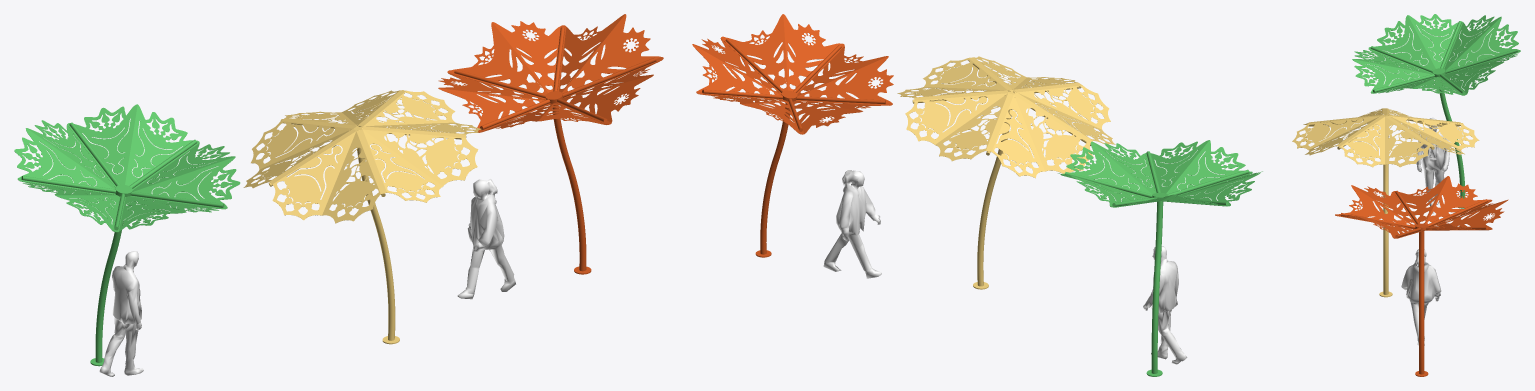
3 views of the same model, side by side, from view 1: azimuth 30°, elevation 25°; view 2: azimuth 150°, elevation 25°; view 3: azimuth 270°, elevation 25° (orthographic). The views are drawn at different scales.
Visible parts, largest first — view 1: shadeB_001, ShadeC_Up, shadeA_up, girl_walk, Object_008, shadeC_support002, shadeC_support, shadeA001, shadeC002, shadeC; view 2: shadeB_001, shadeA_up, ShadeC_Up, girl_walk, Object_008, shadeC_support002, shadeC_support, shadeA001, shadeC, shadeC002; view 3: ShadeC_Up, shadeB_001, shadeA_up, girl_walk, Object_008, shadeC_support, shadeC_support002, shadeC002, shadeA001, shadeC_post002, shadeC.
Part boxes in pixels (x1,y1,x2,y2): shadeB_001: (243,90,481,223); ShadeC_Up: (14,104,240,232); shadeA_up: (438,14,663,132); girl_walk: (457,179,515,299); Object_008: (99,251,143,376); shadeC_support002: (454,27,656,129); shadeC_support: (21,122,224,230); shadeA001: (373,215,395,340); shadeC002: (565,164,586,271); shadeC: (95,257,114,362); shadeB_001: (897,56,1115,178); shadeA_up: (692,14,893,134); ShadeC_Up: (1058,140,1262,207); girl_walk: (823,170,881,278); Object_008: (1143,246,1187,364); shadeC_support002: (702,38,885,131); shadeC_support: (1065,151,1249,206); shadeA001: (977,172,997,286); shadeC: (1151,267,1160,373); shadeC002: (760,157,779,254); ShadeC_Up: (1352,14,1520,95); shadeB_001: (1292,108,1479,167); shadeA_up: (1335,176,1508,238); girl_walk: (1401,249,1441,345); Object_008: (1416,117,1449,213); shadeC_support: (1370,21,1517,94); shadeC_support002: (1340,190,1487,237); shadeC002: (1419,286,1424,374); shadeA001: (1383,191,1388,294); shadeC_post002: (1419,231,1424,286); shadeC: (1454,139,1465,198).
Bounding box in the file's own units: 9.2 × 3.3 × 3.95.
